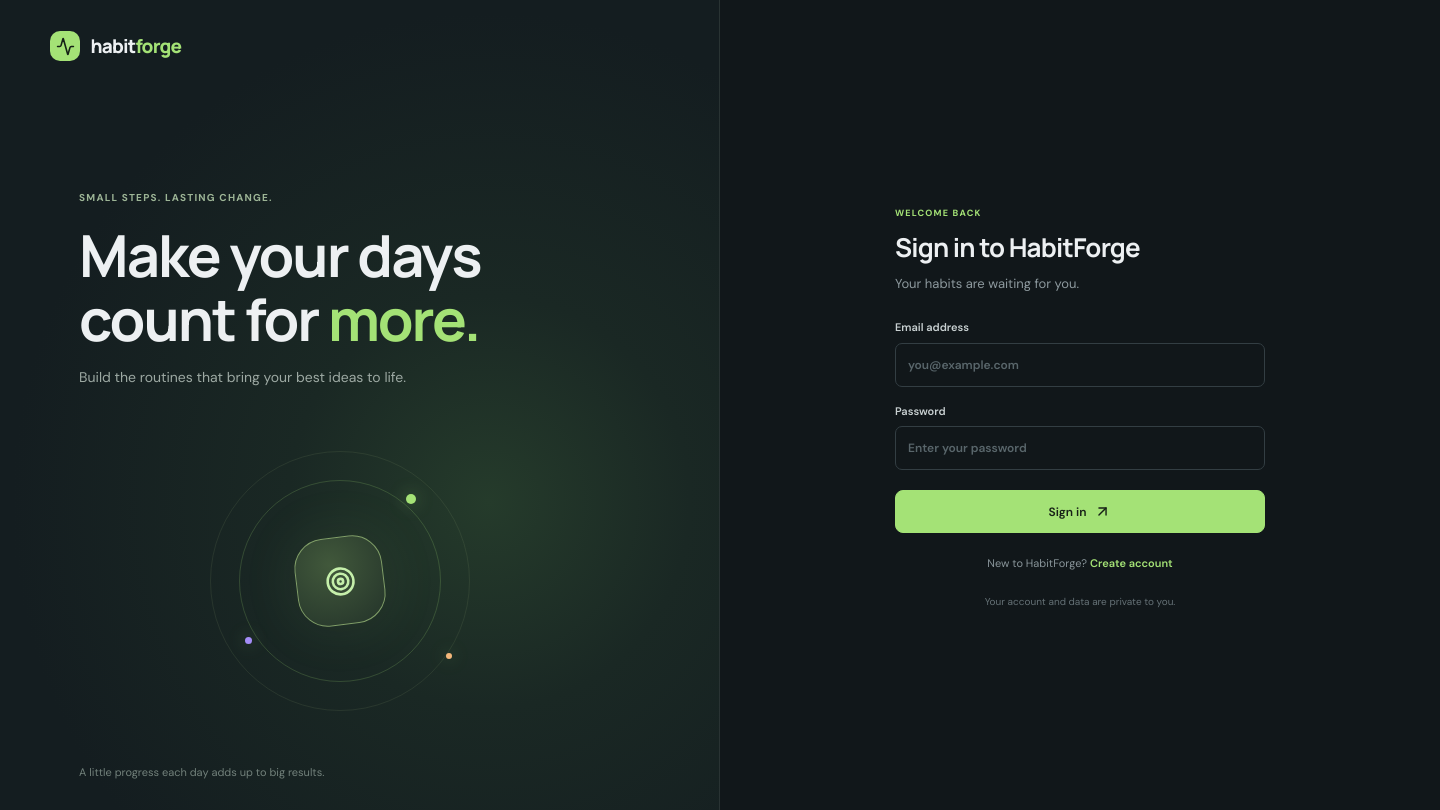
Test: authentication form › shows client-side validation and does not submit a short password
Click the button "Create account" at [1131, 563], box [1090, 555, 1173, 572]
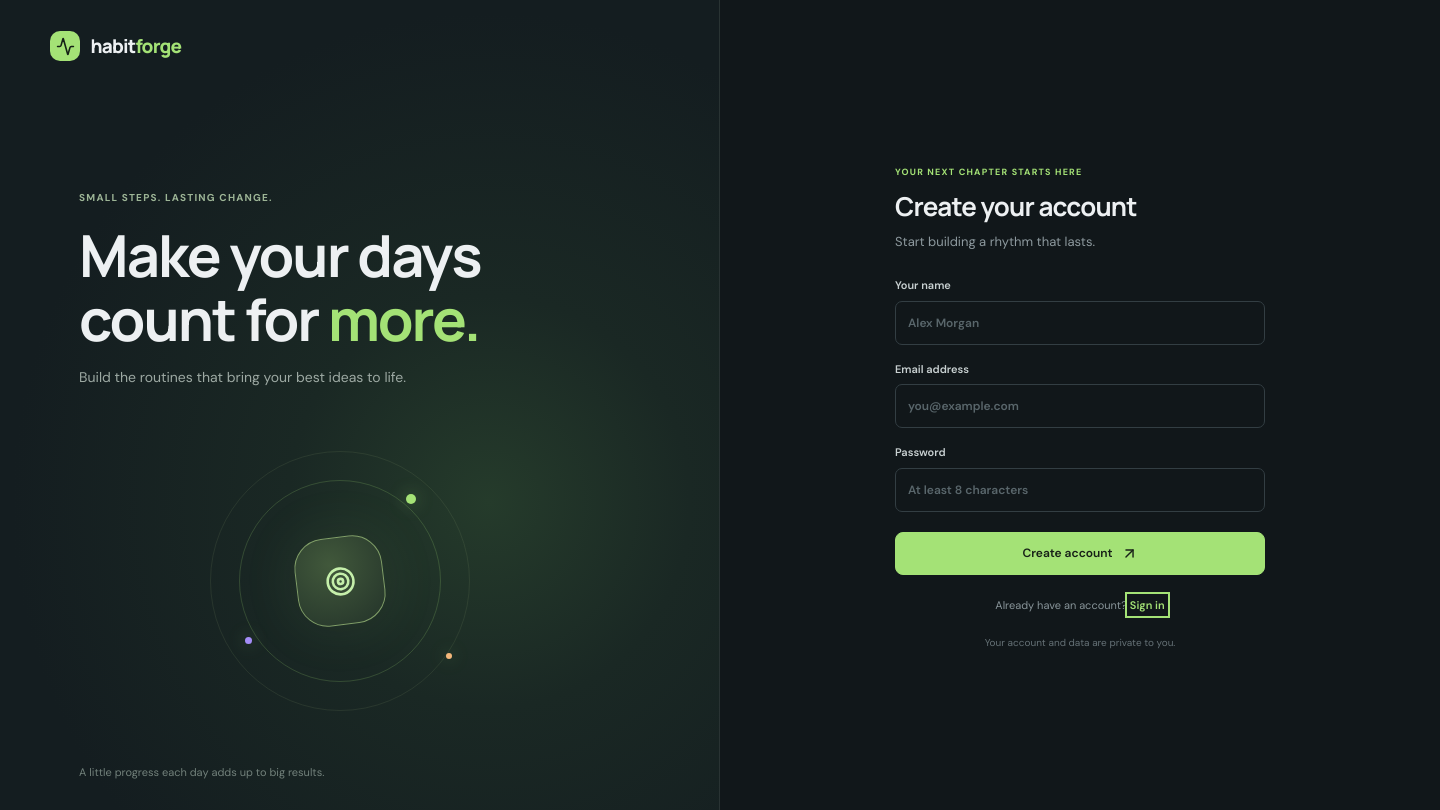
Type "Jamie Sample" into the field labelled "Your name" at [1080, 323], box [895, 301, 1265, 345]
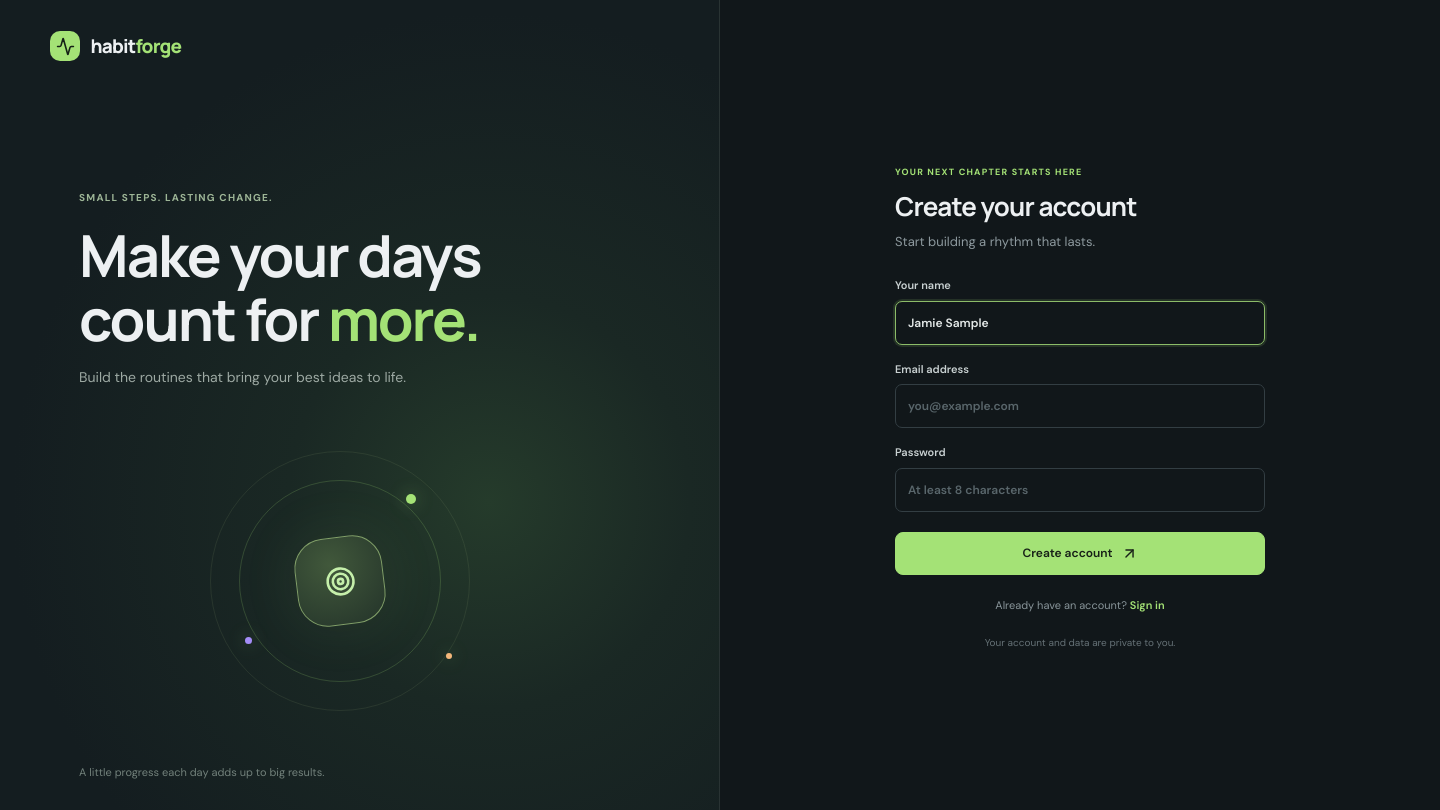
Type "jamie@example.com" into the field labelled "Email address" at [1080, 406], box [895, 384, 1265, 428]
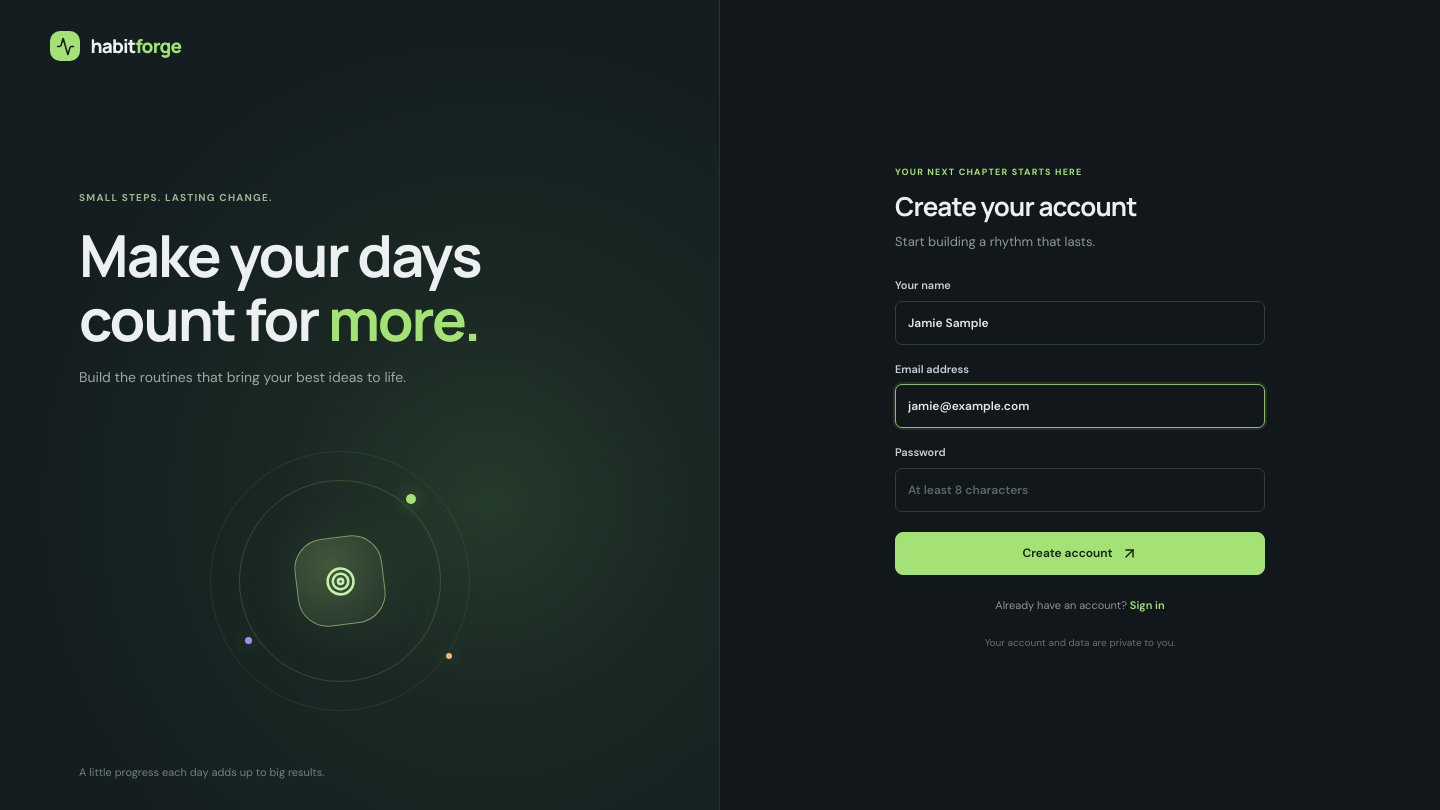
Type "short" into the password field labelled "Password" at [1080, 490], box [895, 468, 1265, 512]
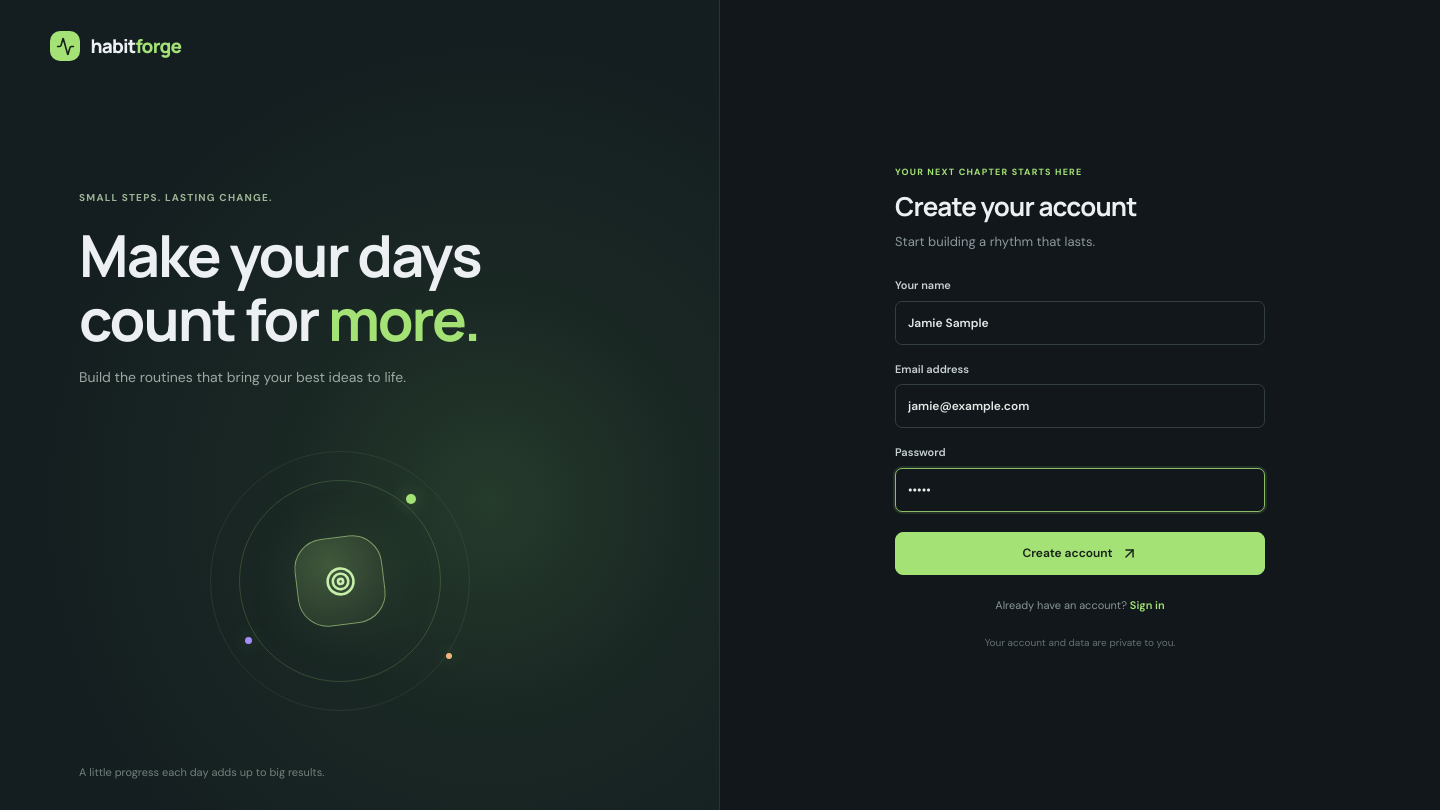
Click the button "Create account" at [1080, 553], box [895, 532, 1265, 575]
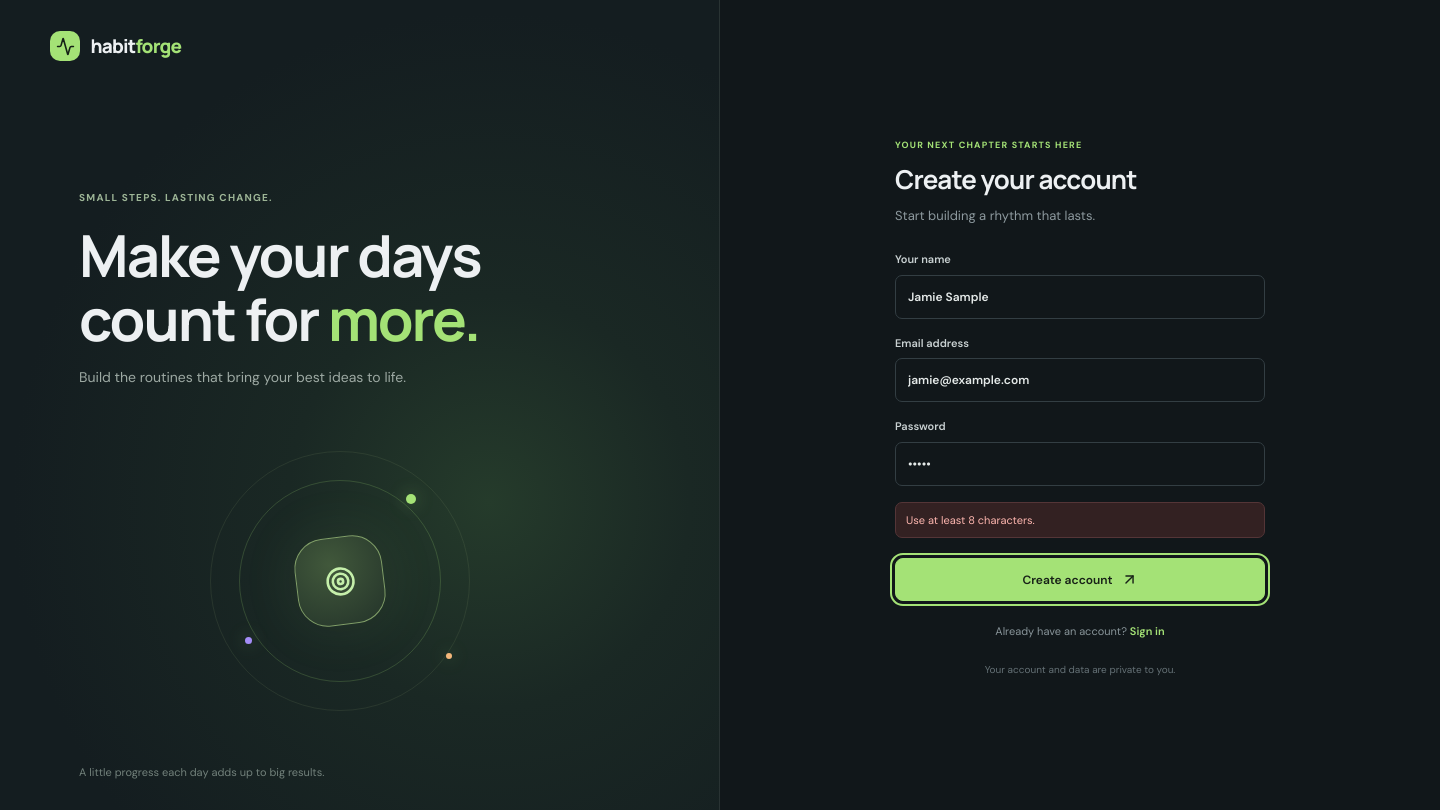
Now the message reads "Use at least 8 characters.", box [906, 513, 1035, 527]
